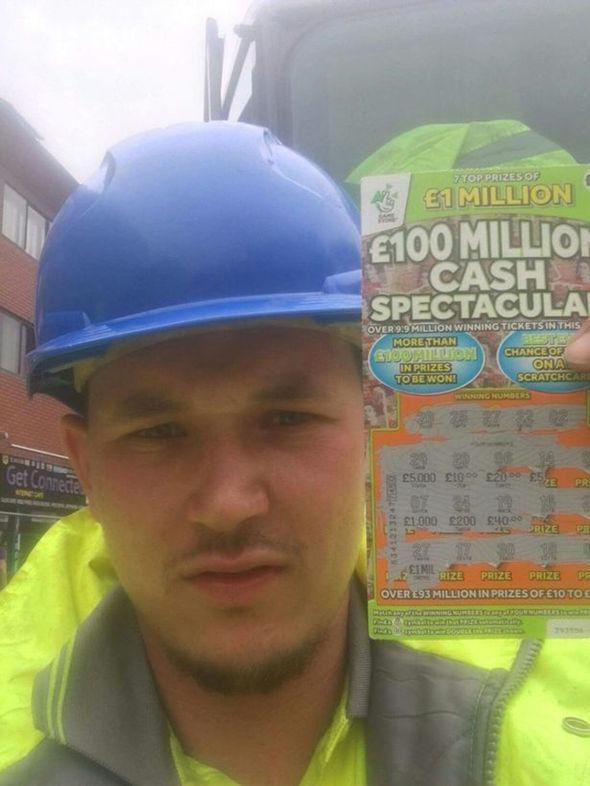helmet: (19, 122, 384, 387)
